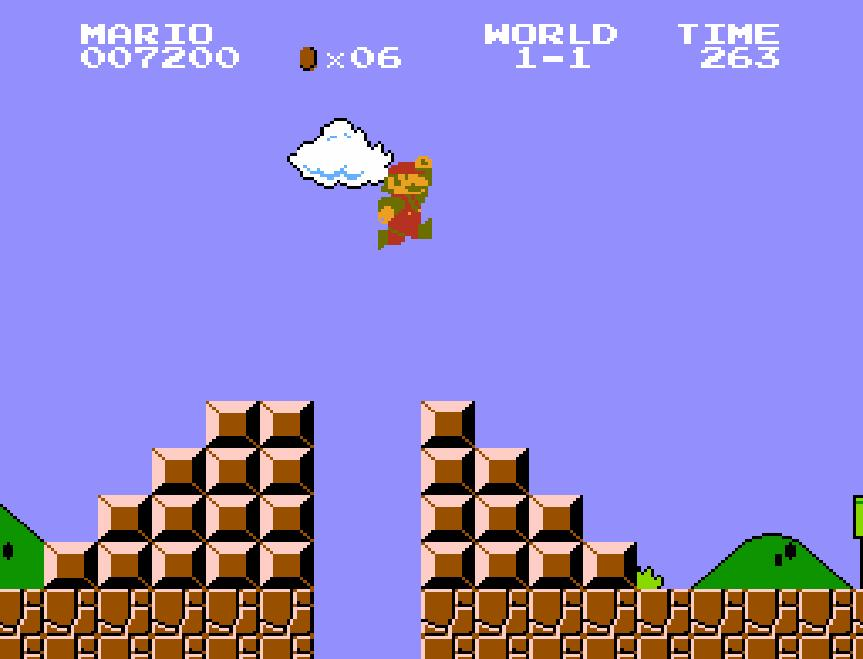big_mario: (376, 154, 434, 252)
